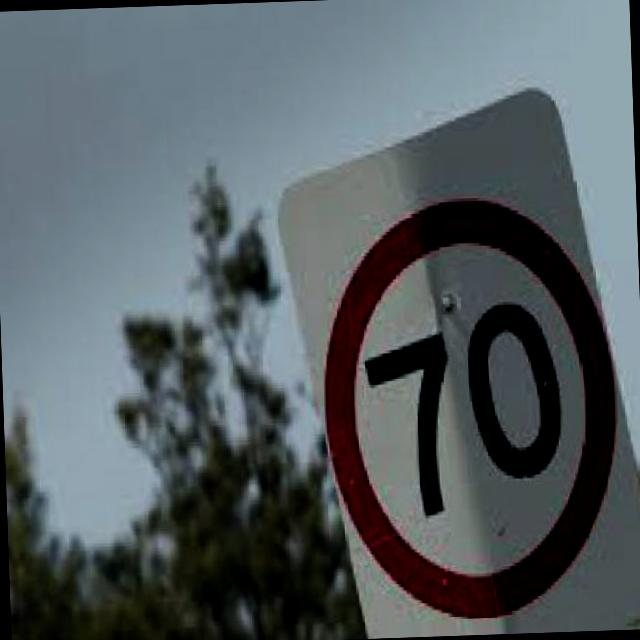Ograniczenie predkosci do 70: (316, 189, 619, 616)
